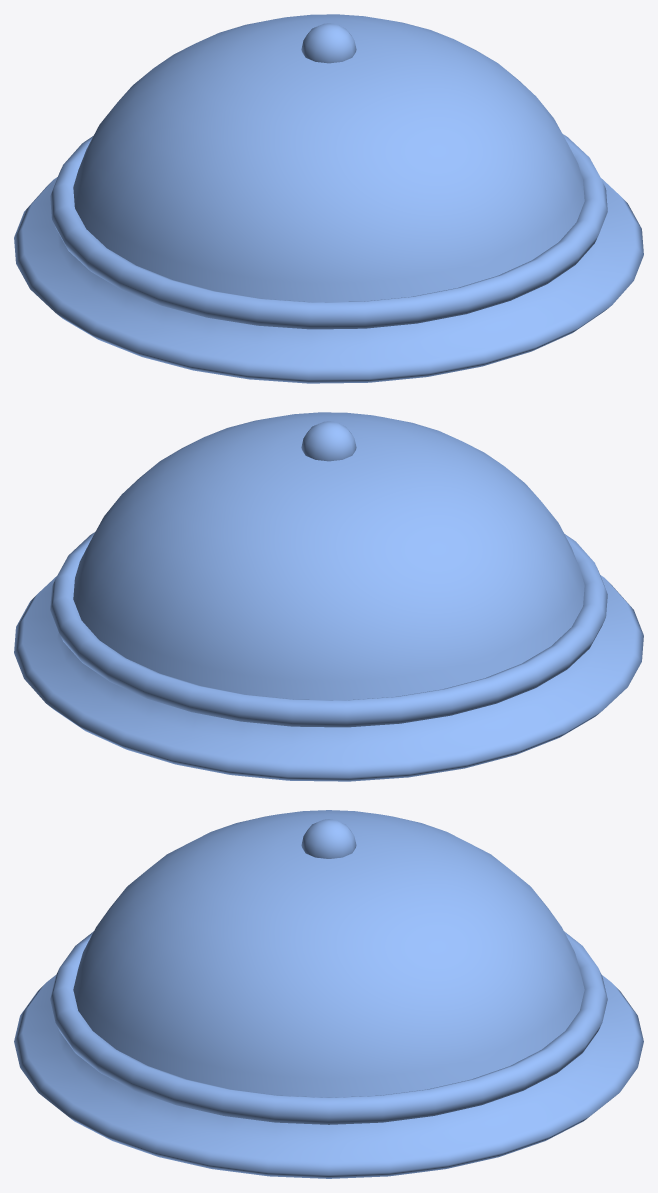
File: Acc_BlueHat.fbx
3 renders of one model, top to bottom at view 1: azimuth 30°, elevation 25°; view 2: azimuth 150°, elevation 25°; view 3: azimuth 270°, elevation 25°, orthographic.
Parts seen in each view (by area): view 1: Acc_BlueHat; view 2: Acc_BlueHat; view 3: Acc_BlueHat.
Boxes of the visible parts, x1,y1,x2,y2 form: Acc_BlueHat: (14, 14, 643, 383); Acc_BlueHat: (14, 412, 643, 781); Acc_BlueHat: (14, 810, 643, 1178).
Size of the model in its own units: 0.183 by 0.073 by 0.183.
